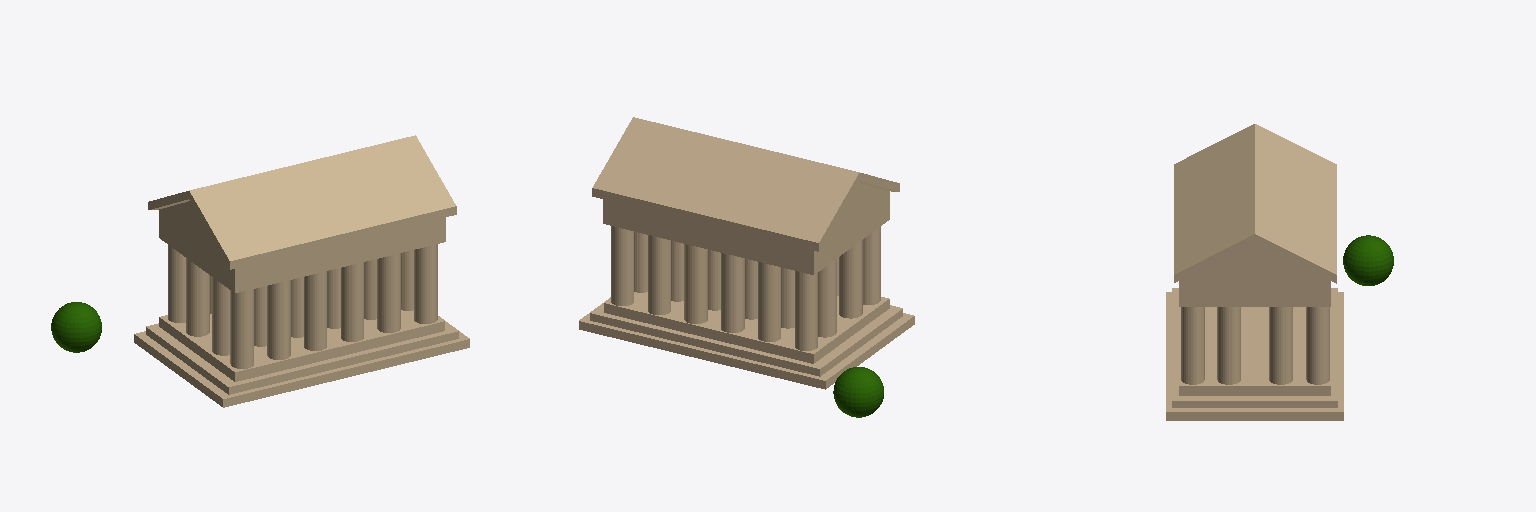
Rendered from greek.obj.
The picture shows the model from 3 angles: view 1: azimuth 30°, elevation 25°; view 2: azimuth 150°, elevation 25°; view 3: azimuth 270°, elevation 25°; orthographic projection.
Parts seen in each view (by area): view 1: Cylinder, Sphere; view 2: Cylinder, Sphere; view 3: Cylinder, Sphere.
Part boxes in pixels (x1,y1,x2,y2): Cylinder: (134, 135, 469, 407); Sphere: (51, 302, 101, 352); Cylinder: (579, 117, 914, 389); Sphere: (833, 367, 883, 417); Cylinder: (1166, 124, 1343, 420); Sphere: (1343, 235, 1393, 285).
Bounding box in the file's own units: 4.78 × 2.73 × 3.01.